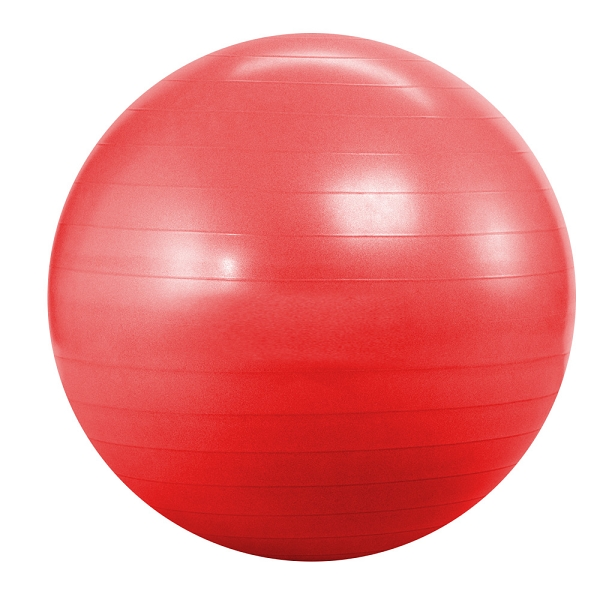yogaball: (45, 31, 581, 568)
